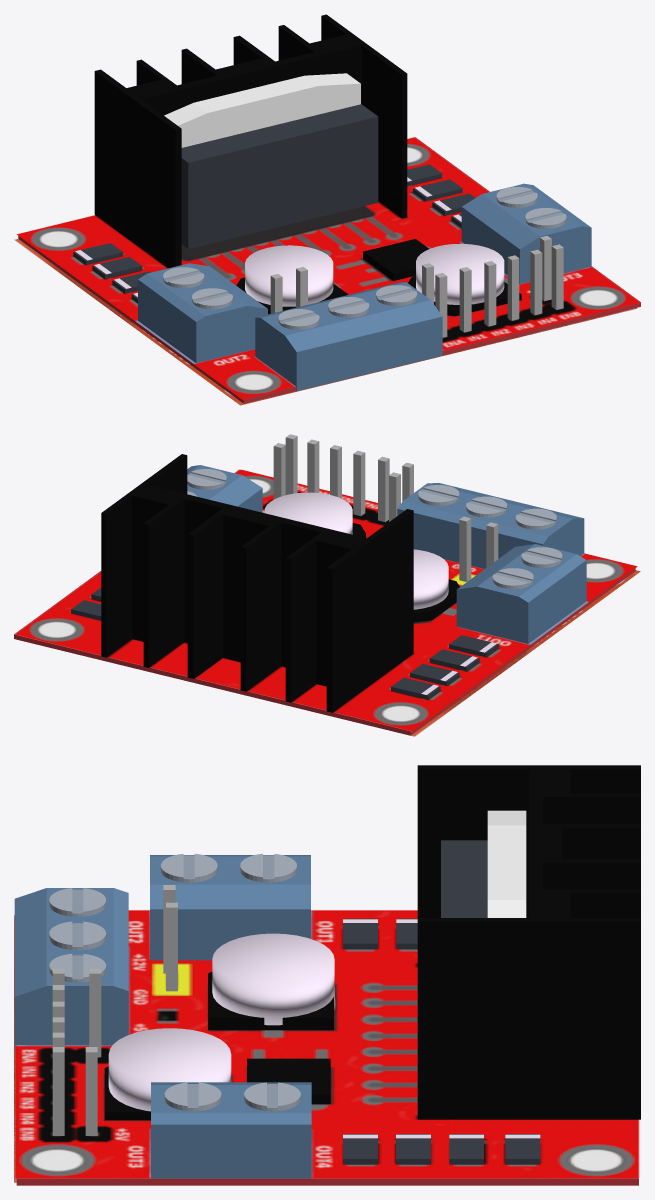
File: l298n_motor_driver.glb
3 renders of one model, top to bottom at view 1: azimuth 30°, elevation 25°; view 2: azimuth 150°, elevation 25°; view 3: azimuth 270°, elevation 25°, orthographic. The views are drawn at different scales.
Visible parts, largest first — view 1: Plane_38, motor top_1, Cube.025_36, Cube.011_10, Cylinder.004_8, Cube.026_37, Cube.001_3, Cylinder.008_24, Cylinder_23, Cube_0, motor bottom_2, Cube.014_22 (+15 smaller); view 2: Plane_38, motor top_1, Cylinder.004_8, Cube.011_10, Cube_0, Cylinder_23, Cylinder.008_24, Cube.001_3, motor bottom_2, Cube.023_34, Cube.018_29, Cube.021_32 (+16 smaller); view 3: Plane_38, motor top_1, Cylinder.004_8, Cube.001_3, Cube.011_10, Cylinder.008_24, Cylinder_23, Cube_0, Cube.026_37, Cube.025_36, Cube.014_22, Cube.013_21 (+16 smaller).
Boxes of the visible parts, x1,y1,x2,y2 form: Plane_38: [94, 14, 407, 268]; motor top_1: [17, 137, 639, 399]; Cube.025_36: [181, 104, 378, 248]; Cube.011_10: [255, 282, 442, 390]; Cylinder.004_8: [138, 263, 267, 363]; Cube.026_37: [164, 73, 360, 147]; Cube.001_3: [461, 183, 591, 283]; Cylinder.008_24: [245, 245, 333, 306]; Cylinder_23: [416, 243, 504, 304]; Cube_0: [18, 137, 640, 403]; motor bottom_2: [14, 239, 637, 405]; Cube.014_22: [363, 239, 428, 280]; Plane_38: [101, 454, 413, 712]; motor top_1: [15, 469, 637, 731]; Cylinder.004_8: [456, 544, 586, 643]; Cube.011_10: [397, 483, 584, 568]; Cube_0: [14, 469, 635, 735]; Cylinder_23: [264, 492, 352, 534]; Cylinder.008_24: [413, 549, 448, 609]; Cube.001_3: [187, 465, 262, 512]; motor bottom_2: [411, 570, 640, 736]; Cube.023_34: [459, 516, 471, 581]; Cube.018_29: [353, 450, 365, 516]; Cube.021_32: [285, 434, 297, 494]; Plane_38: [417, 765, 640, 1119]; motor top_1: [15, 910, 639, 1178]; Cylinder.004_8: [150, 853, 310, 960]; Cube.001_3: [151, 1082, 311, 1178]; Cube.011_10: [14, 888, 128, 1050]; Cylinder.008_24: [212, 933, 334, 1025]; Cylinder_23: [108, 1028, 231, 1111]; Cube_0: [16, 1178, 638, 1185]; Cube.026_37: [487, 810, 526, 917]; Cube.025_36: [441, 840, 487, 917]; Cube.014_22: [247, 1058, 330, 1103]; Cube.013_21: [208, 972, 333, 1030].
Bounding box in the file's own units: 0.9611 × 0.3405 × 0.9419.
11 materials, 2 textured.
